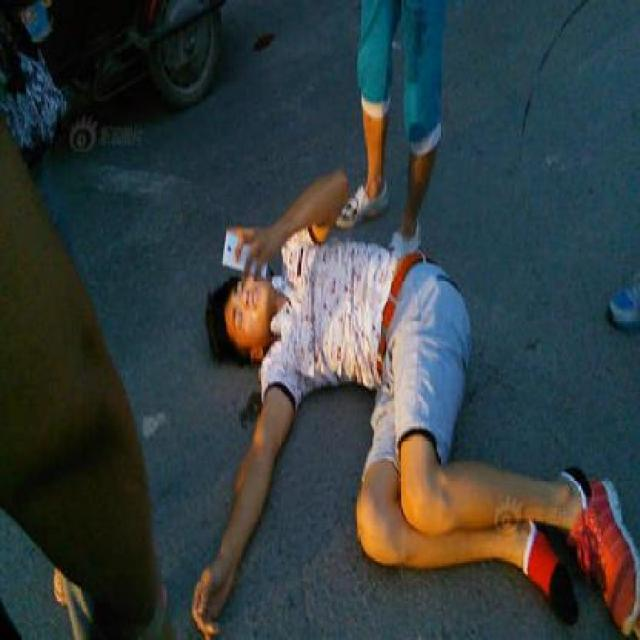fall: (178, 203, 638, 635)
